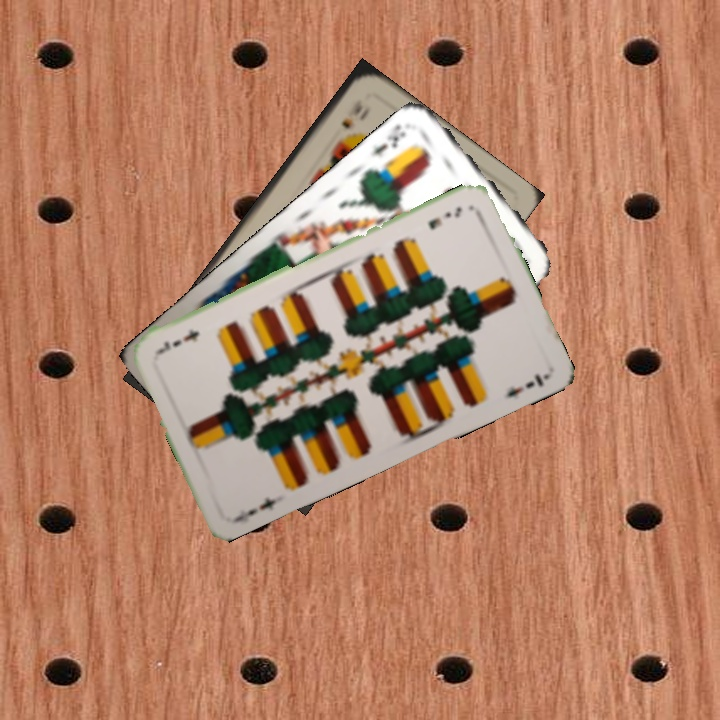E7: (424, 202, 464, 232), (242, 493, 279, 519)
EK: (369, 120, 409, 159)
S10: (337, 96, 366, 132)
